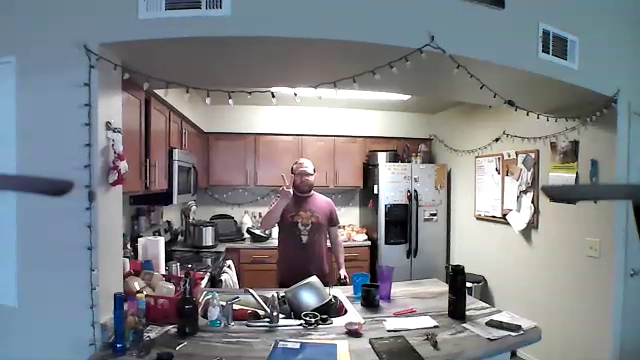peace: (275, 171, 298, 210)
